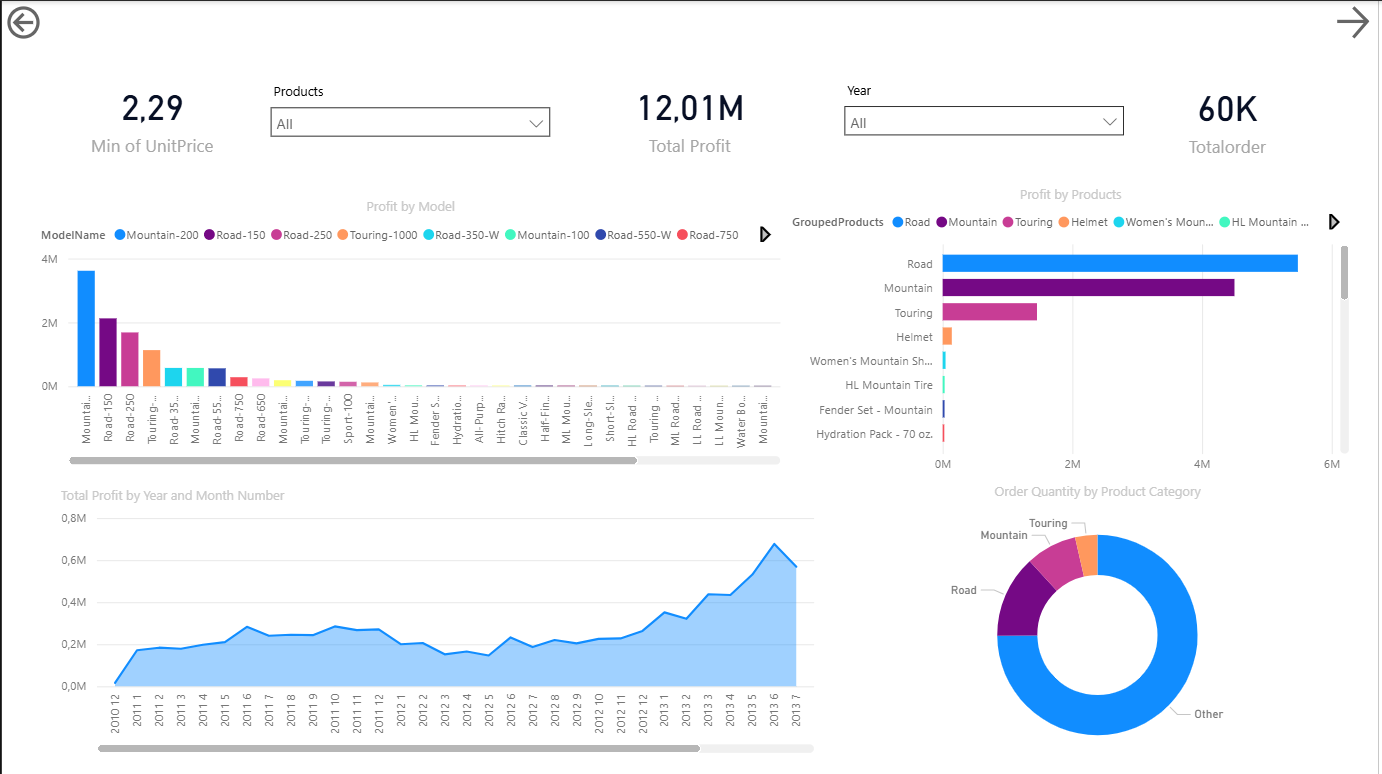

What the dashboard file says about the page in this screenshot:
{"tool":"powerbi","page":{"name":"Product DASHBOARD","canvas":[1280,720],"ordinal":1},"visuals":[{"type":"card","fields":{"Values":["factInternetSales.Totalorder"]},"box":[1000,34.3,280,150],"z":0},{"type":"card","fields":{"Values":["Min(factInternetSales.UnitPrice)"]},"box":[0,32.9,280,150],"z":1000},{"type":"card","fields":{"Values":["factInternetSales.Total Profit"]},"box":[500,32.9,280,150],"z":2000},{"type":"slicer","fields":{"Values":["dimProduct.GroupedProducts"]},"box":[240,71.4,280,72.9],"z":3000},{"type":"slicer","fields":{"Values":["DateTable.Year"]},"box":[772.9,70,280,72.9],"z":4000},{"type":"barChart","fields":{"Y":["Sum(factInternetSales.OrderProfit)"],"Category":["dimProduct.GroupedProducts"],"Series":["dimProduct.GroupedProducts"]},"box":[0,465.7,470,254.3],"z":5000},{"type":"stackedAreaChart","fields":{"Y":["factInternetSales.Total Profit"],"Category":["DateTable.Year","DateTable.Month Number"]},"box":[0,182.9,710,252.9],"z":6000},{"type":"donutChart","fields":{"Category":["dimProduct.Product Category"],"Y":["Sum(factInternetSales.OrderQuantity)"]},"box":[470,465.7,360,254.3],"z":7000},{"type":"columnChart","fields":{"Category":["dimProduct.ModelName"],"Y":["Sum(factInternetSales.OrderProfit)"],"Series":["dimProduct.ModelName"]},"box":[710,182.9,570,252.9],"z":8000},{"type":"barChart","fields":{"Category":["dimProduct.Product Category"],"Y":["CountNonNull(factInternetSales.SalesOrderNumber)"]},"box":[830,440,450,280],"z":9000},{"type":"actionButton","box":[1235.7,0,44.3,40],"z":9001},{"type":"actionButton","box":[0,0,100,40],"z":9002}]}

Visuals, with their boxes in screenshot pixels (x1, y1, x2, y2), scaled from the page's 1280x720 canvas onto the 1382x774 screenshot:
card - factInternetSales.Totalorder: bbox=[1080, 37, 1381, 198]
card - Min(factInternetSales.UnitPrice): bbox=[0, 35, 302, 197]
card - factInternetSales.Total Profit: bbox=[540, 35, 842, 197]
slicer - dimProduct.GroupedProducts: bbox=[259, 77, 561, 155]
slicer - DateTable.Year: bbox=[834, 75, 1137, 154]
barChart - Sum(factInternetSales.OrderProfit) x dimProduct.GroupedProducts: bbox=[0, 501, 507, 773]
stackedAreaChart - factInternetSales.Total Profit x DateTable.Year: bbox=[0, 197, 767, 468]
donutChart - dimProduct.Product Category x Sum(factInternetSales.OrderQuantity): bbox=[507, 501, 896, 773]
columnChart - dimProduct.ModelName x Sum(factInternetSales.OrderProfit): bbox=[767, 197, 1381, 468]
barChart - dimProduct.Product Category x CountNonNull(factInternetSales.SalesOrderNumber): bbox=[896, 473, 1381, 773]
actionButton: bbox=[1334, 0, 1381, 43]
actionButton: bbox=[0, 0, 108, 43]
